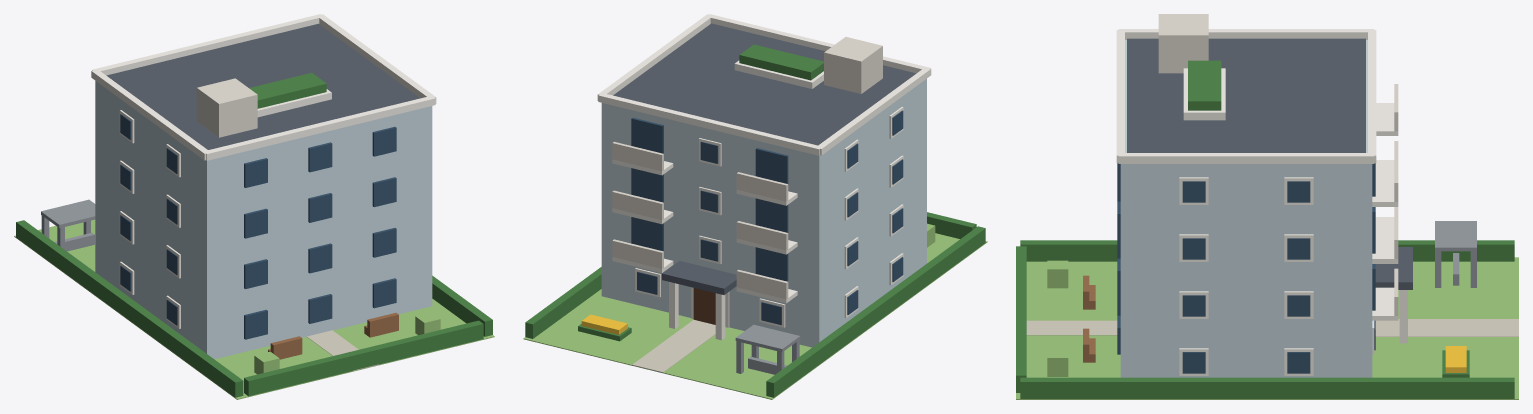
3 renders of one model, left to right at view 1: azimuth 30°, elevation 25°; view 2: azimuth 150°, elevation 25°; view 3: azimuth 270°, elevation 25°, orthographic. The views are drawn at different scales.
Visible parts, largest first — view 1: block, roof, hedge (×3), parapet (×4), window_glass (×12), lawn, plant_room, roof_planter_hedge, bike_shed_roof, tree_spot (×2), garden_path, roof_planter; view 2: block, roof, lawn, hedge (×3), parapet (×4), balcony_wall (×6), window_glass (×6), plant_room, path, roof_planter_hedge, canopy, bike_shed_roof (+4 smaller); view 3: block, roof, lawn, hedge (×3), parapet (×4), window_glass (×8), balcony (×4), plant_room, path, roof_planter_hedge, garden_path, bike_shed_roof (+5 smaller).
Boxes of the visible parts, x1,y1,x2,y2 form: block: [95, 81, 432, 359]; roof: [106, 23, 420, 149]; hedge (×3): [16, 220, 492, 397]; parapet (×4): [91, 14, 436, 160]; window_glass (×12): [244, 126, 396, 339]; lawn: [14, 219, 494, 399]; plant_room: [196, 78, 257, 137]; roof_planter_hedge: [249, 73, 326, 108]; bike_shed_roof: [41, 199, 95, 228]; tree_spot (×2): [254, 312, 440, 374]; garden_path: [306, 330, 378, 370]; roof_planter: [257, 89, 331, 117]; block: [601, 78, 926, 347]; roof: [613, 23, 916, 145]; lawn: [523, 233, 987, 399]; hedge (×3): [525, 212, 985, 397]; parapet (×4): [597, 14, 931, 155]; balcony_wall (×6): [612, 141, 788, 299]; window_glass (×6): [631, 117, 788, 281]; plant_room: [824, 37, 882, 93]; path: [632, 320, 715, 372]; roof_planter_hedge: [739, 44, 823, 80]; canopy: [662, 260, 736, 294]; bike_shed_roof: [735, 324, 800, 352]; block: [1120, 40, 1372, 377]; roof: [1127, 38, 1365, 152]; lawn: [1016, 257, 1518, 399]; hedge (×3): [1016, 240, 1514, 398]; parapet (×4): [1116, 29, 1376, 163]; window_glass (×8): [1182, 181, 1310, 373]; balcony (×4): [1372, 103, 1398, 320]; plant_room: [1158, 14, 1208, 73]; path: [1375, 319, 1518, 336]; roof_planter_hedge: [1188, 60, 1221, 110]; garden_path: [1026, 320, 1117, 335]; bike_shed_roof: [1435, 221, 1476, 251].
Bounding box in the file's own units: 16 × 14.17 × 24.
